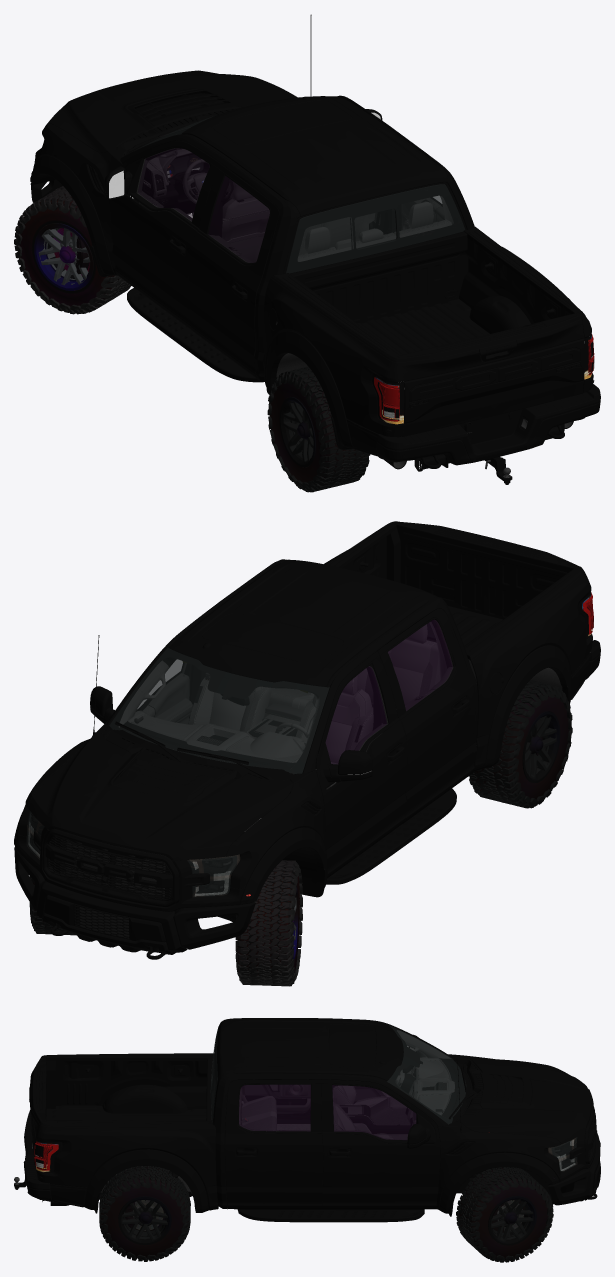
File: dord-d50-13-daptor.glb
3 views of the same model, one above another, from view 1: azimuth 30°, elevation 25°; view 2: azimuth 150°, elevation 25°; view 3: azimuth 270°, elevation 25° (orthographic). The views are drawn at different scales.
Parts seen in each view (by area): view 1: bodyshell1_1_17_64, Object_56, Object_61, chassis_2_46_112, door_dside_r_31_60_137, windscreen_r_55_216_379, Object_42, door_pside_f_23_74_165, Object_39, Object_12, window_lr_32_205_361, misc_skirt_18_137_256 (+4 smaller); view 2: bodyshell1_1_17_64, Object_61, chassis_2_46_112, windscreen_56_213_374, door_pside_f_23_74_165, Object_54, door_dside_r_31_60_137, bumper_f_20_28_78, Object_39, Object_42, window_lr_32_205_361, Object_12 (+4 smaller); view 3: bodyshell1_1_17_64, door_pside_f_23_74_165, door_pside_r_26_84_184, Object_61, chassis_2_46_112, [wheel_59_2_37, Object_47, windscreen_56_213_374, window_rf_25_207_364, window_rr_27_209_367, misc_skirt_18_137_256, door_dside_r_31_60_137 (+7 smaller).
Boxes of the visible parts, left/top/right/bottom form: bodyshell1_1_17_64: left=30, top=14, right=600, bottom=471; Object_56: left=401, top=319, right=584, bottom=436; Object_61: left=47, top=70, right=291, bottom=152; chassis_2_46_112: left=66, top=130, right=573, bottom=469; door_dside_r_31_60_137: left=188, top=164, right=279, bottom=378; windscreen_r_55_216_379: left=286, top=184, right=465, bottom=273; Object_42: left=14, top=186, right=131, bottom=314; door_pside_f_23_74_165: left=104, top=109, right=382, bottom=330; Object_39: left=267, top=366, right=370, bottom=492; Object_12: left=138, top=148, right=209, bottom=220; window_lr_32_205_361: left=208, top=176, right=269, bottom=262; misc_skirt_18_137_256: left=127, top=288, right=263, bottom=382; bodyshell1_1_17_64: left=14, top=521, right=600, bottom=913; Object_61: left=28, top=733, right=293, bottom=860; chassis_2_46_112: left=106, top=621, right=447, bottom=846; windscreen_56_213_374: left=109, top=648, right=329, bottom=774; door_pside_f_23_74_165: left=90, top=651, right=406, bottom=877; Object_54: left=394, top=521, right=579, bottom=619; door_dside_r_31_60_137: left=378, top=608, right=475, bottom=823; bumper_f_20_28_78: left=14, top=846, right=255, bottom=959; Object_39: left=469, top=680, right=572, bottom=808; Object_42: left=235, top=860, right=302, bottom=986; window_lr_32_205_361: left=388, top=619, right=452, bottom=710; Object_12: left=325, top=666, right=386, bottom=764; bodyshell1_1_17_64: left=23, top=1018, right=597, bottom=1216; door_pside_f_23_74_165: left=321, top=1034, right=440, bottom=1209; door_pside_r_26_84_184: left=225, top=1079, right=323, bottom=1209; Object_61: left=462, top=1055, right=591, bottom=1144; chassis_2_46_112: left=50, top=1029, right=545, bottom=1205; [wheel_59_2_37: left=99, top=1166, right=190, bottom=1261; Object_47: left=456, top=1167, right=553, bottom=1262; windscreen_56_213_374: left=387, top=1025, right=469, bottom=1124; window_rf_25_207_364: left=332, top=1085, right=416, bottom=1140; window_rr_27_209_367: left=239, top=1084, right=310, bottom=1131; misc_skirt_18_137_256: left=237, top=1209, right=424, bottom=1222; door_dside_r_31_60_137: left=241, top=1084, right=310, bottom=1119.
Size of what is drawn, in the model's own units: 2.55 by 2.26 by 6.11.
45 materials, 26 textured.
